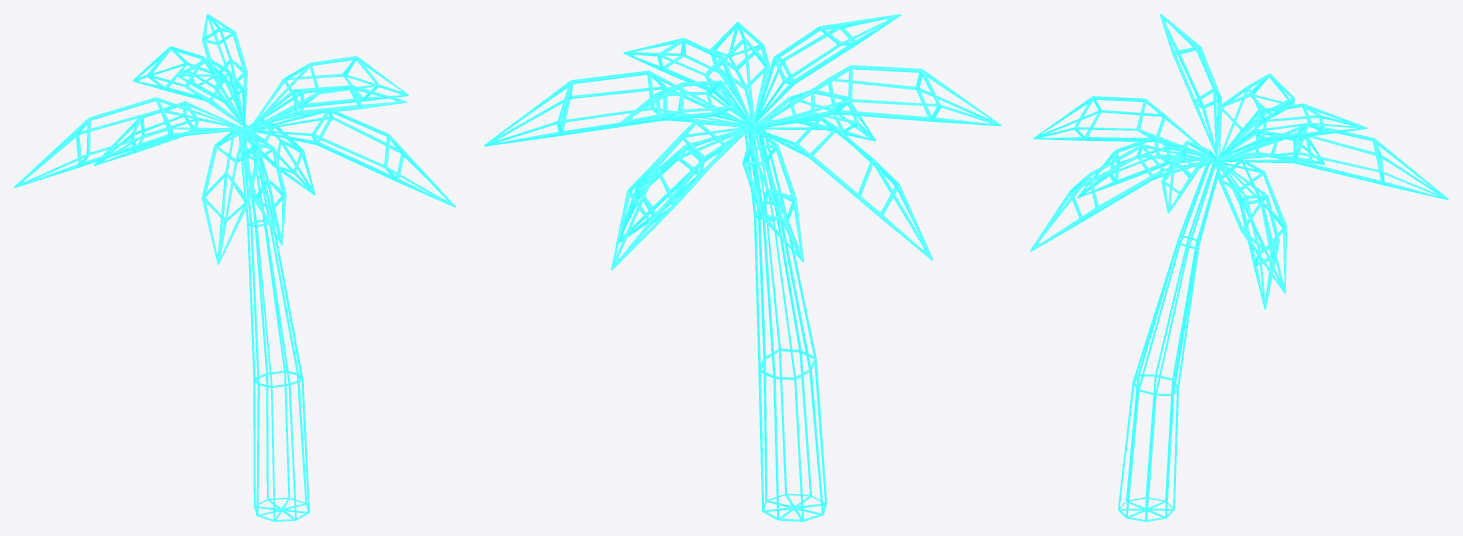
The model's file is Evn_Plam_tree_01.fbx.
3 renders of one model, left to right at view 1: azimuth 30°, elevation 25°; view 2: azimuth 150°, elevation 25°; view 3: azimuth 270°, elevation 25°, orthographic. The views are drawn at different scales.
Visible parts, largest first — view 1: Evn_Plam_tree_01.001; view 2: Evn_Plam_tree_01.001; view 3: Evn_Plam_tree_01.001.
Boxes of the visible parts, x1,y1,x2,y2 form: Evn_Plam_tree_01.001: (14, 14, 455, 521); Evn_Plam_tree_01.001: (484, 14, 1001, 521); Evn_Plam_tree_01.001: (1030, 14, 1448, 521).
Bounding box in the file's own units: 14.05 × 15.65 × 13.22.
